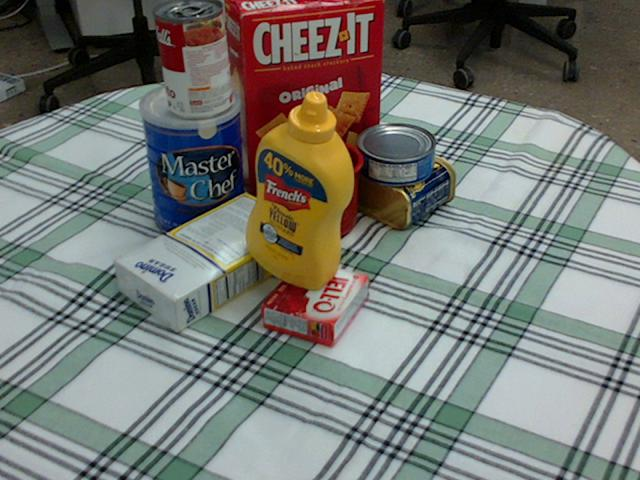cracker_box: (225, 0, 383, 194)
gelatin_box: (262, 259, 369, 346)
master_chef_can: (138, 81, 245, 240)
mug: (276, 136, 364, 239)
mustard_bottle: (245, 90, 353, 289)
potted_meat_can: (339, 135, 453, 226)
sugar_box: (113, 191, 305, 331)
tomato_soup_can: (154, 0, 231, 117)
tuna_fish_can: (356, 123, 435, 185)
